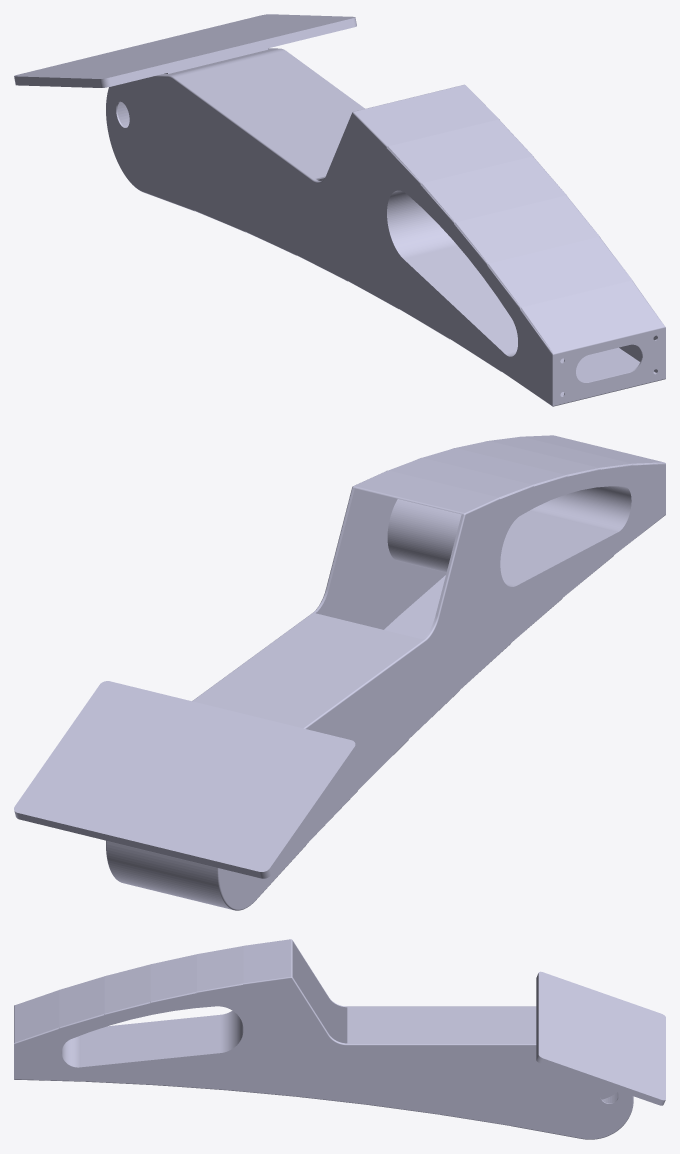
The model's file is mainbody001.dae.
The picture shows the model from 3 angles, top to bottom: view 1: azimuth 30°, elevation 25°; view 2: azimuth 150°, elevation 25°; view 3: azimuth 270°, elevation 25°; orthographic projection. The views are drawn at different scales.
Parts seen in each view (by area): view 1: node0; view 2: node0; view 3: node0.
Boxes of the visible parts, bbox=[...] form: node0: bbox=[14, 14, 665, 406]; node0: bbox=[14, 435, 665, 910]; node0: bbox=[14, 939, 665, 1139].
Size of the model in its own units: 0.3822 by 1.22 by 0.3369.
